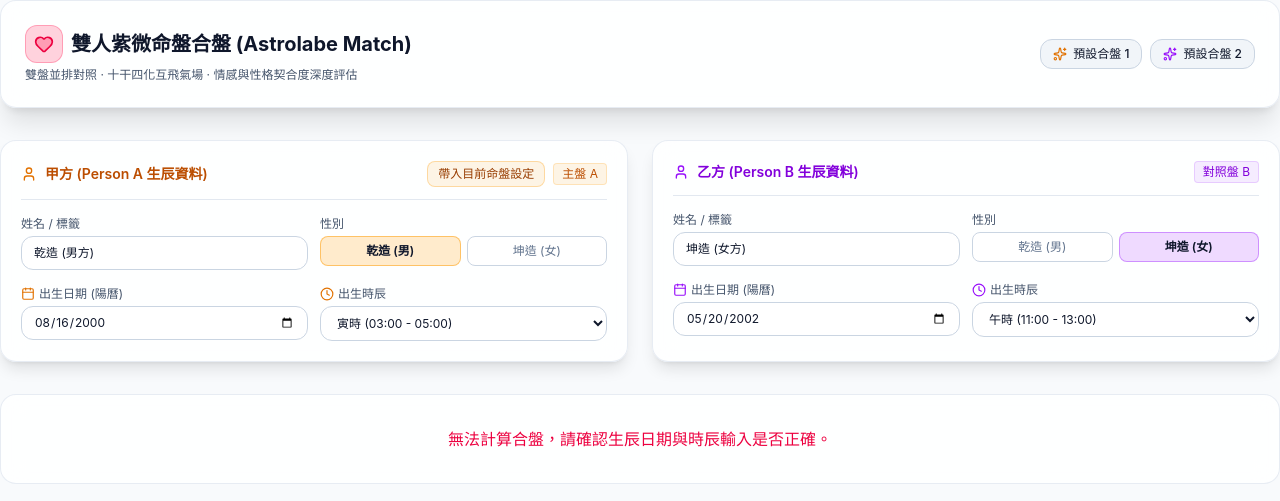
Test: MatchPanel Component (src/components/MatchPanel.tsx) › renders Person A inheriting complete ChartConfig and handles "使用目前命盤設定" button
Click the button "帶入目前命盤設定" at (486, 174), box [427,161,545,187]
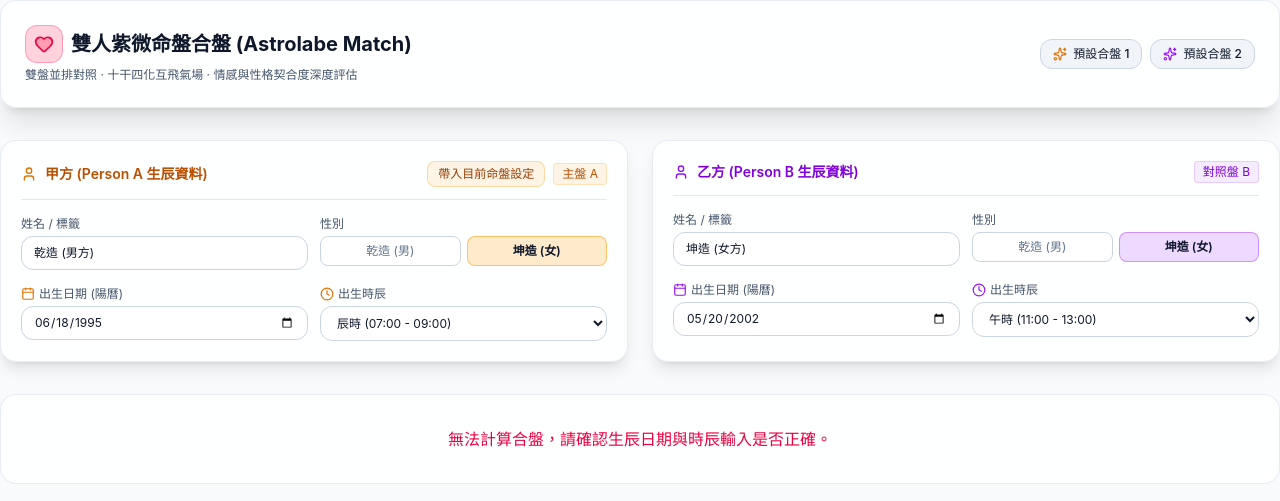
Now the date field showing "1995-06-18" below "甲方 (Person A 生辰資料)" is shown, box [21,306,308,340]
